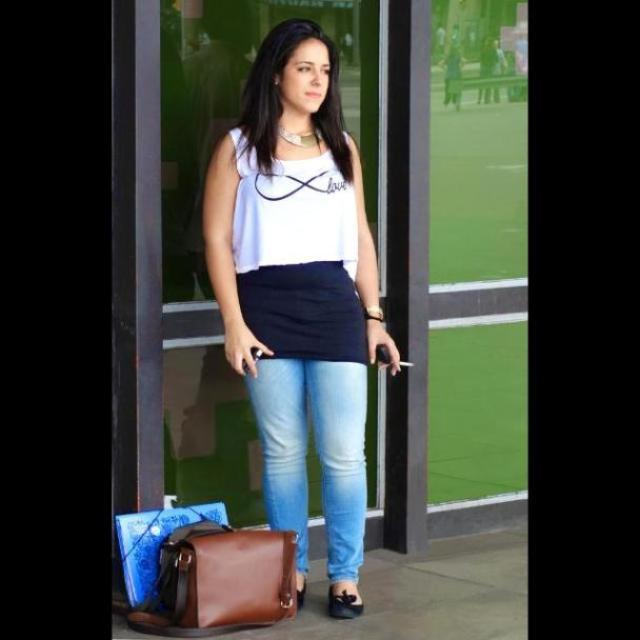rokok: (367, 351, 419, 375)
